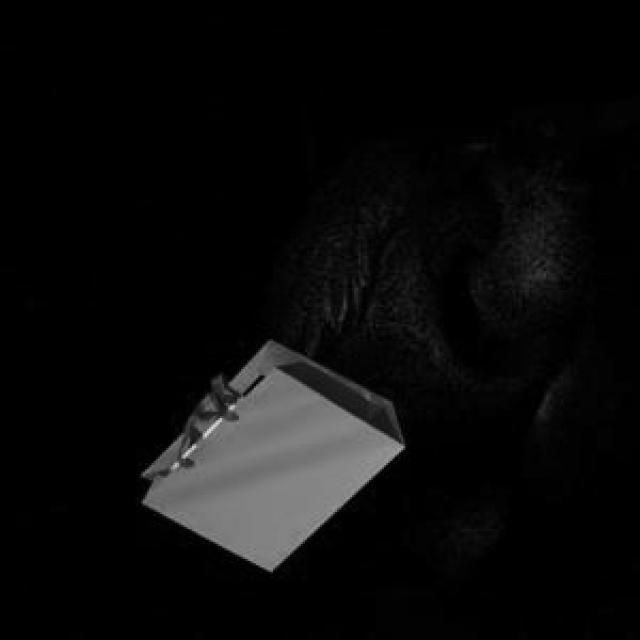paper: (139, 337, 401, 568)
